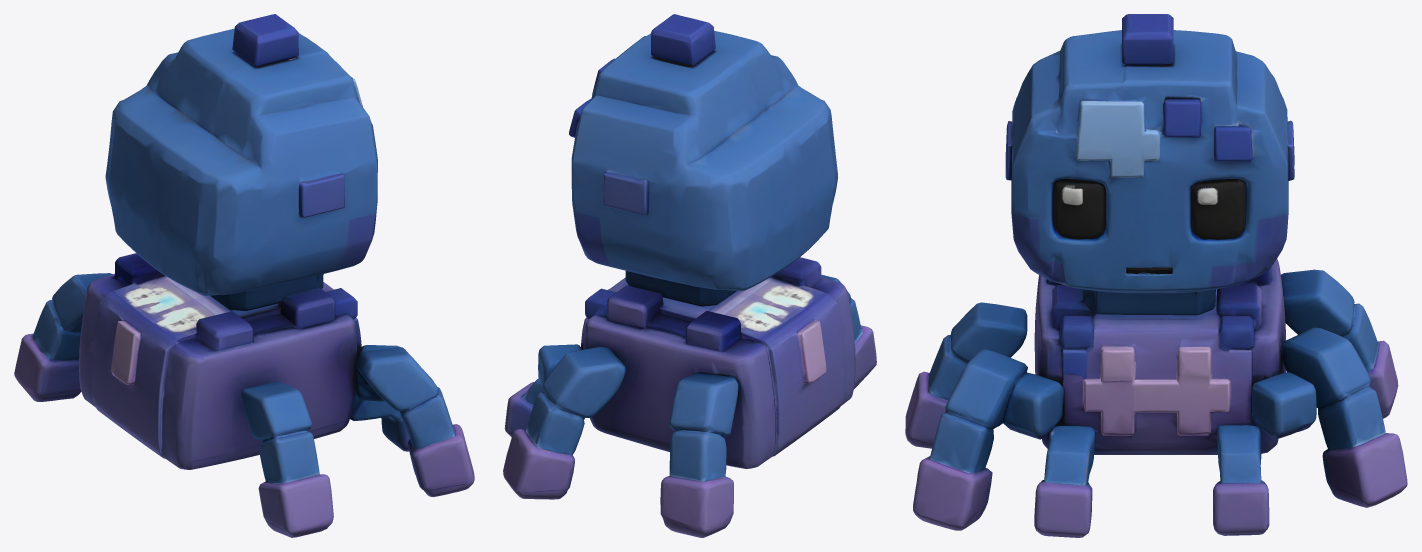
Rendered from 010-block-toy-tripo-v25-standard-15k.glb.
3 renders of one model, left to right at view 1: azimuth 30°, elevation 25°; view 2: azimuth 150°, elevation 25°; view 3: azimuth 270°, elevation 25°, orthographic. The views are drawn at different scales.
Parts seen in each view (by area): view 1: tripo_node_e6c0ed38-0e3b-4b52-8a4c-eceb709dcc2b; view 2: tripo_node_e6c0ed38-0e3b-4b52-8a4c-eceb709dcc2b; view 3: tripo_node_e6c0ed38-0e3b-4b52-8a4c-eceb709dcc2b.
Part boxes in pixels (x1,y1,x2,y2): tripo_node_e6c0ed38-0e3b-4b52-8a4c-eceb709dcc2b: (14, 14, 474, 537); tripo_node_e6c0ed38-0e3b-4b52-8a4c-eceb709dcc2b: (503, 14, 876, 537); tripo_node_e6c0ed38-0e3b-4b52-8a4c-eceb709dcc2b: (905, 14, 1407, 537).
Bounding box in the file's own units: 0.6795 × 1 × 0.9988.
Materials: 1 (1 with a texture image).
